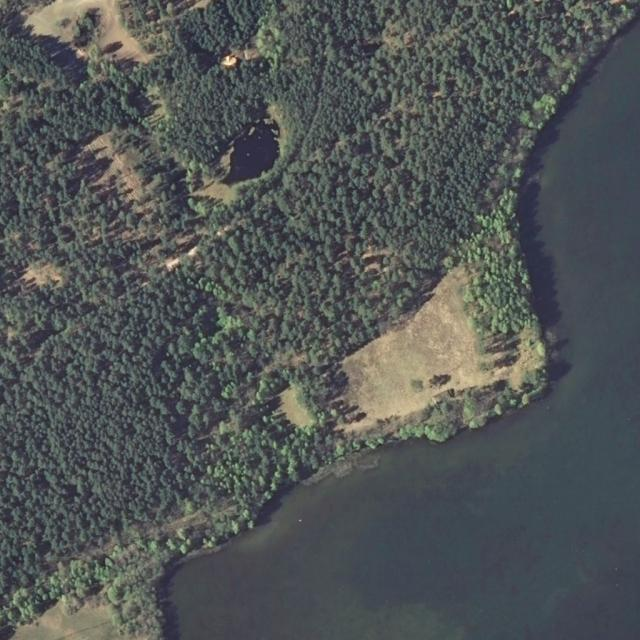agricultural_land: (9, 601, 140, 639)
dryland: (330, 272, 502, 434), (380, 386, 499, 435), (338, 408, 380, 427)
